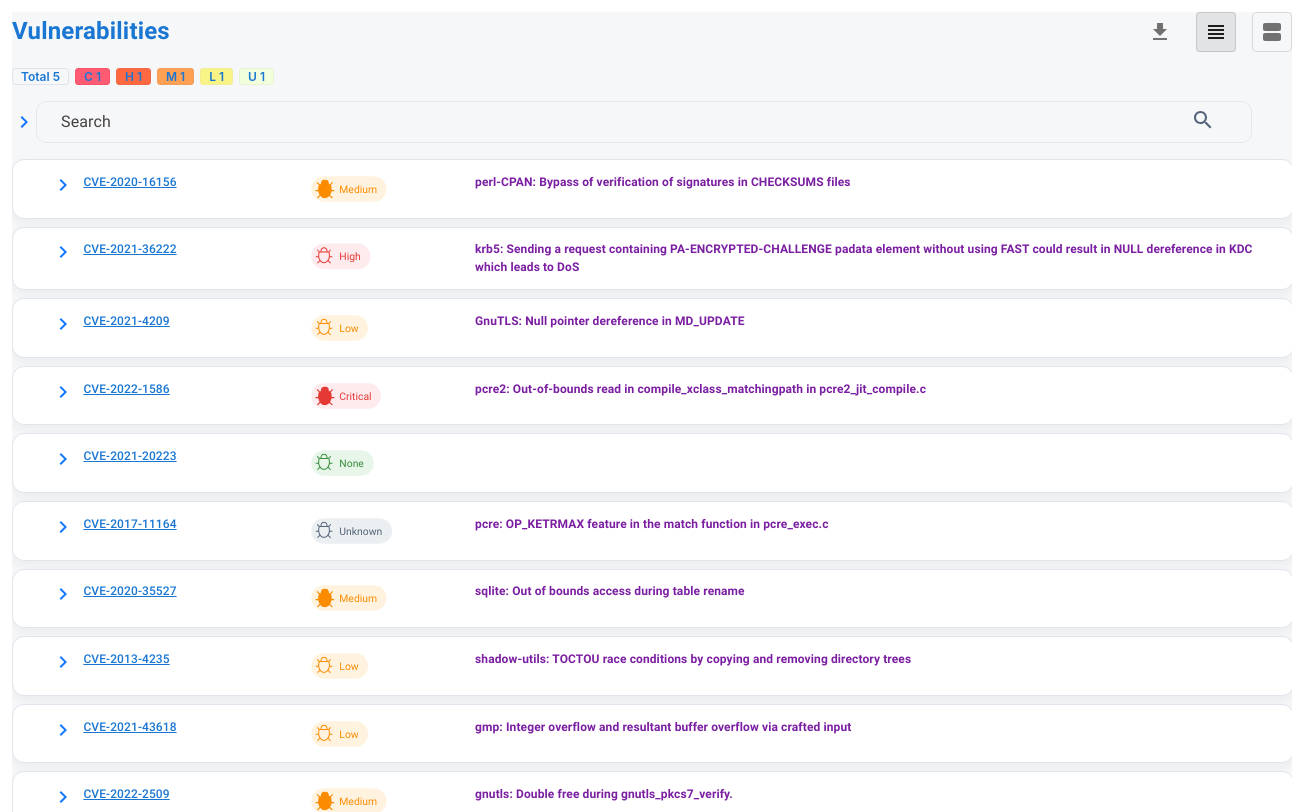
Vulnerabilties page › should expand/collapse the list of CVEs
Expected: the text "Vulnerabilities" is shown once, [12, 17, 170, 47]
Click the button with test id "ViewAgendaIcon" at (1272, 32), box [1252, 12, 1292, 52]
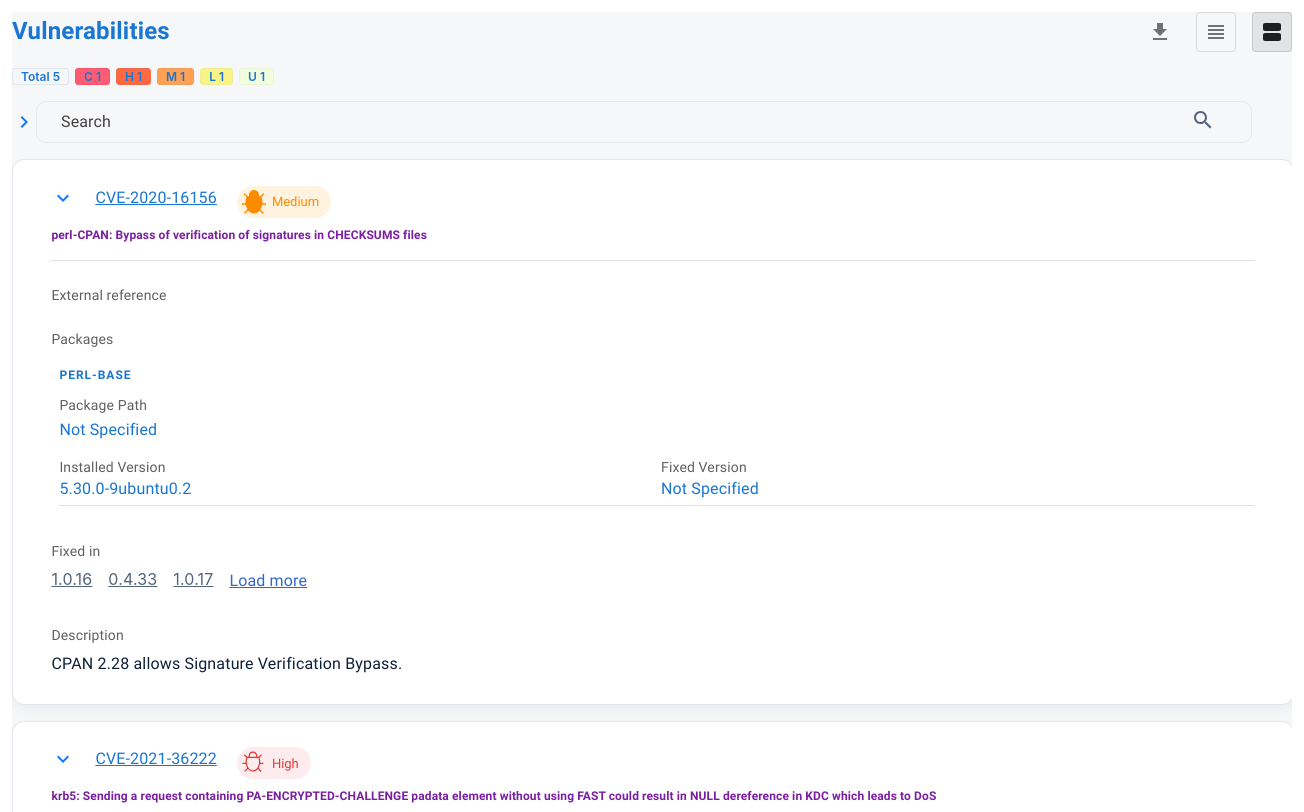
Expected: the text "Fixed in" is shown 20 times
Click the button with test id "ViewHeadlineIcon" at (1216, 32), box [1196, 12, 1236, 52]
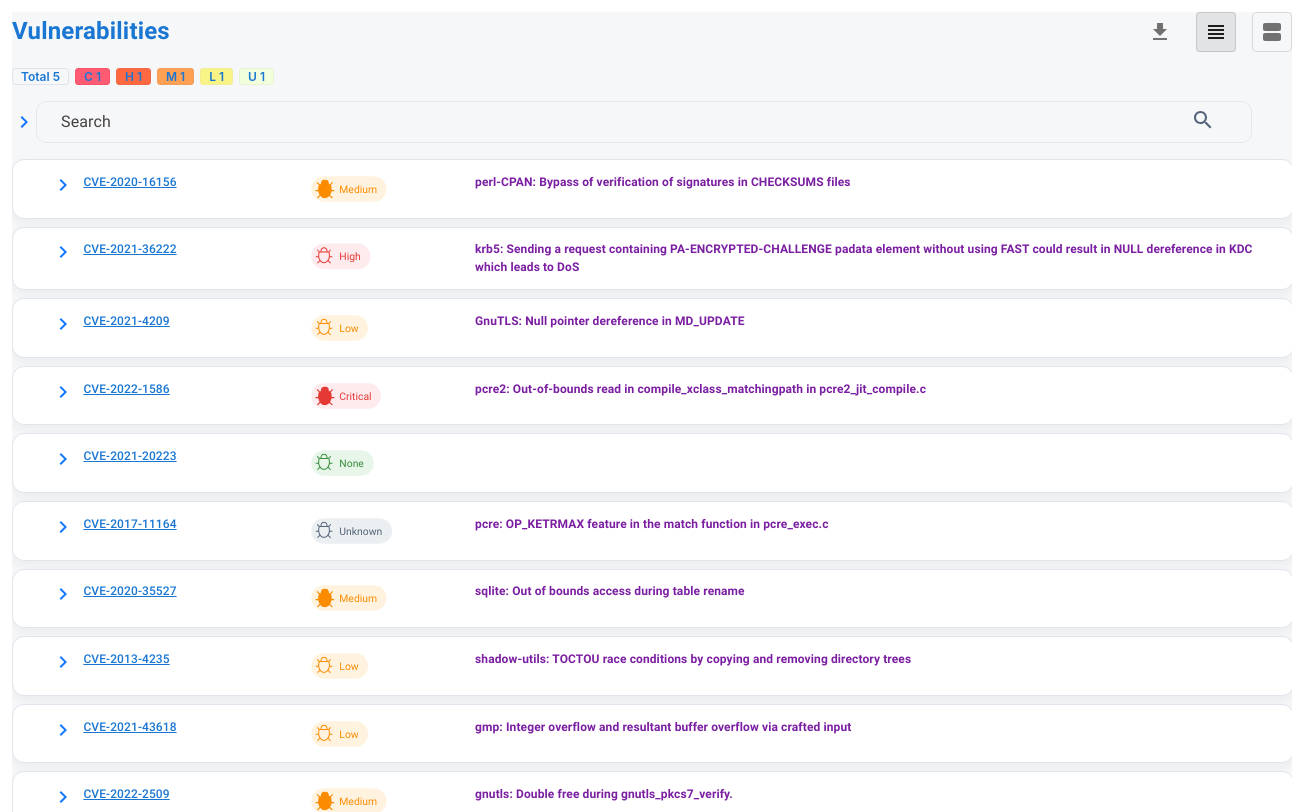
Expected: the text "Fixed in" is gone
